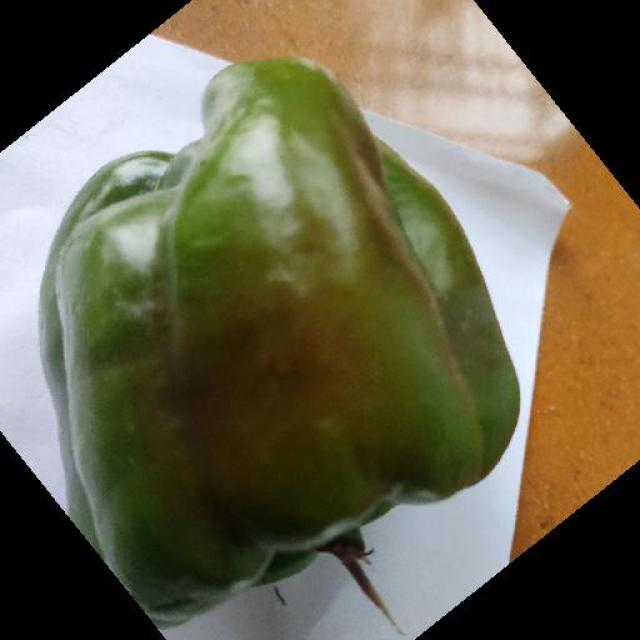Stale_Capsicum: (36, 101, 446, 526)
